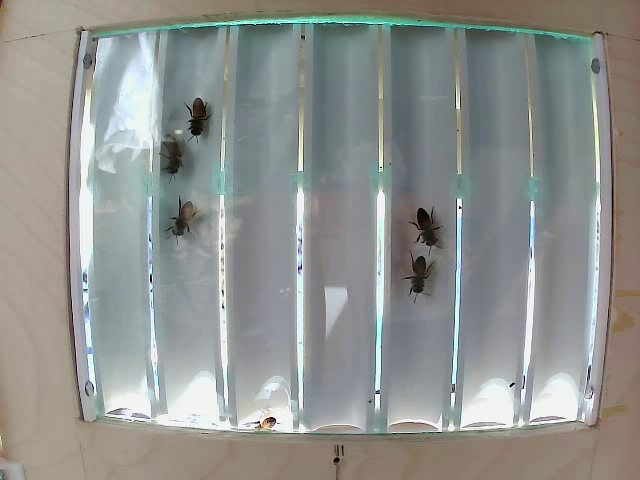bee: (404, 202, 453, 260), (182, 84, 219, 136), (153, 126, 186, 177), (165, 195, 197, 239), (410, 254, 432, 310)
